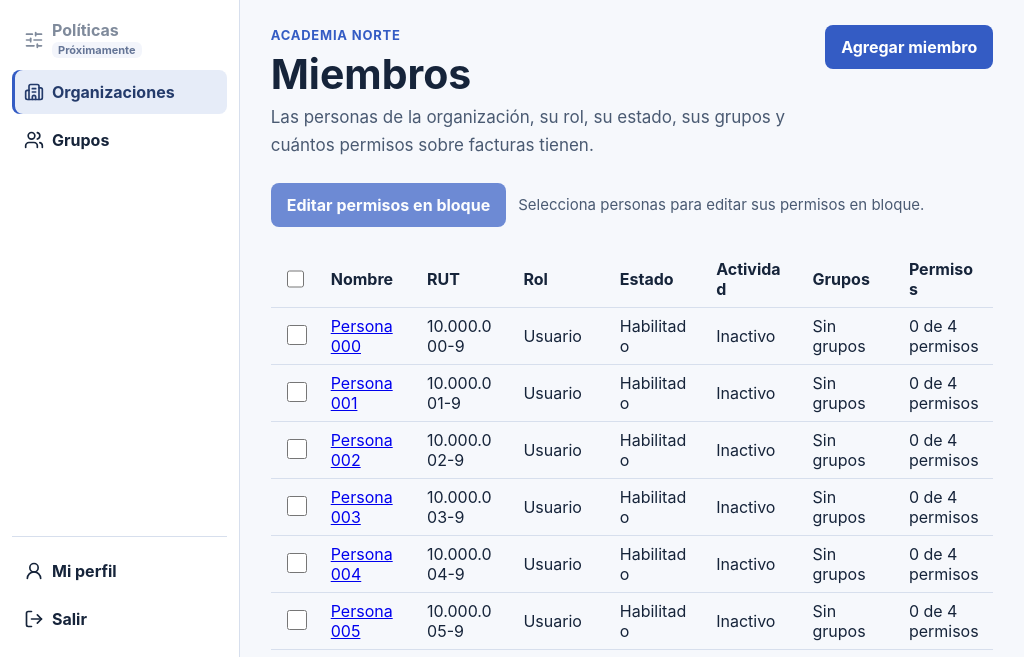
it: members lists › blocks the bulk edit above 200 people on the organization screen
What coordinates should you click on to do the following:
click the checkbox named "Seleccionar todos en esta página"
I would click on:
 (295, 279)
Its box is [287,269,304,289].
(page scrolled)
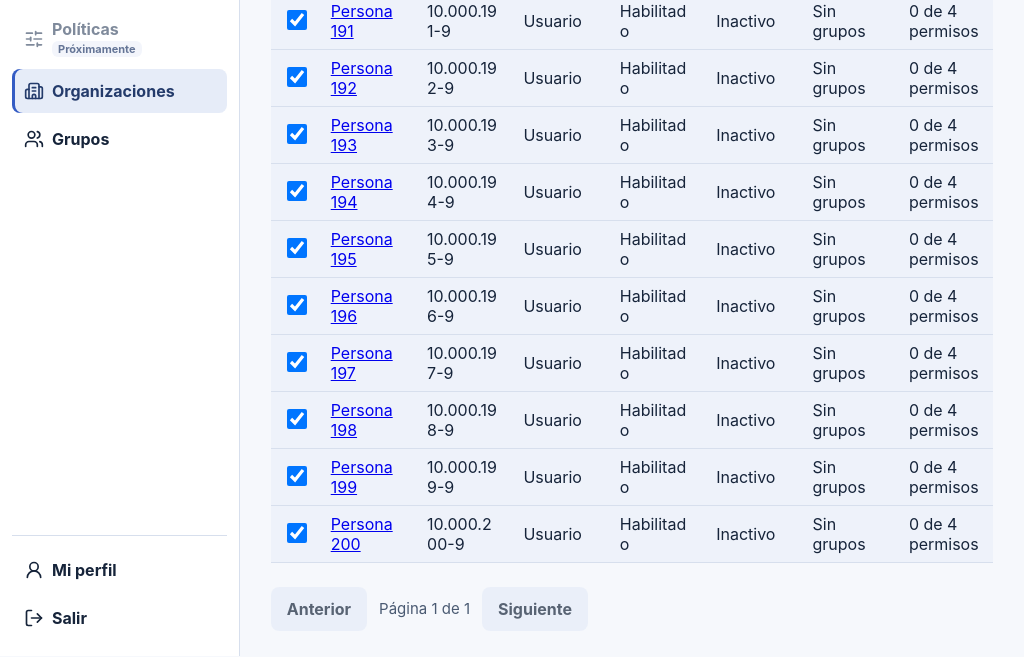
Note: One person less brings it back to the limit.
What coordinates should you click on to do the following:
click the checkbox named "Seleccionar a Persona 200"
I would click on:
 (297, 533)
Its box is [287,523,307,543].
(page scrolled)
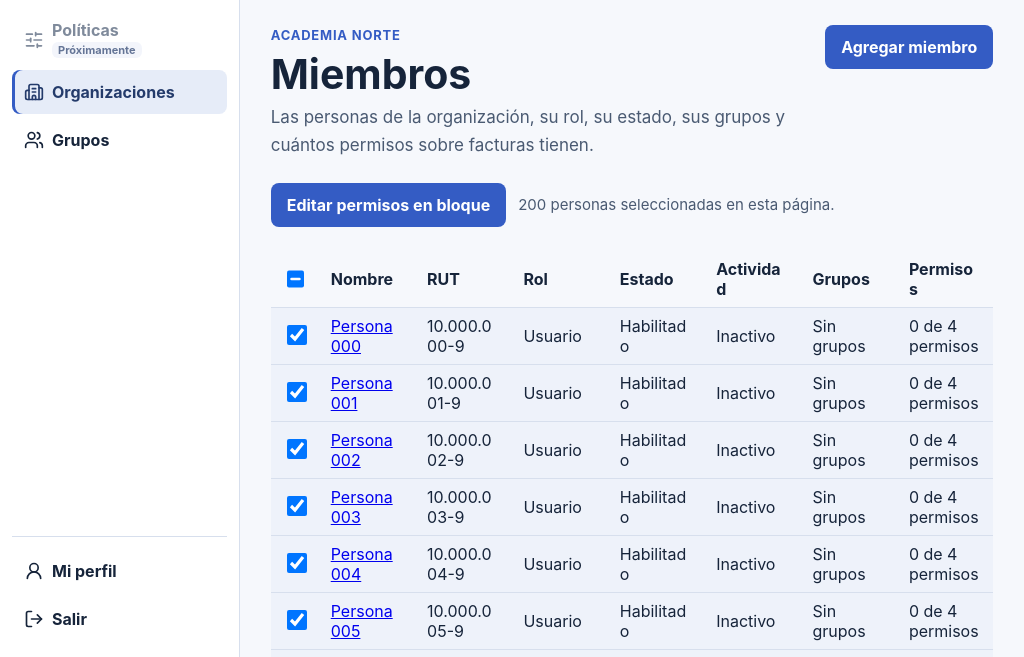
Expected: the text "200 personas seleccionadas en esta página." is shown, [518,193,834,217]
Expected: the button "Editar permisos en bloque" is enabled, [271,183,506,227]
